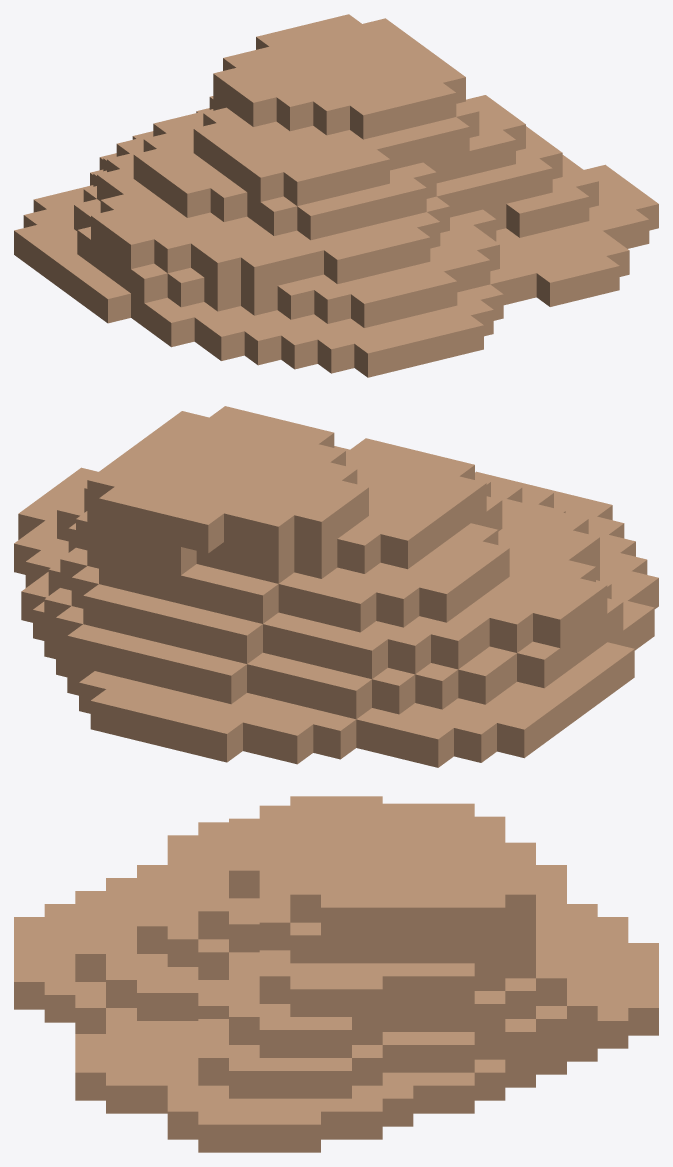
Rendered from rock_props_03.vox.obj.
The picture shows the model from 3 angles, top to bottom: view 1: azimuth 30°, elevation 25°; view 2: azimuth 150°, elevation 25°; view 3: azimuth 270°, elevation 25°; orthographic projection. The views are drawn at different scales.
Size of the model in its own units: 2.2 by 0.6 by 2.1.
1 material, 1 textured.
